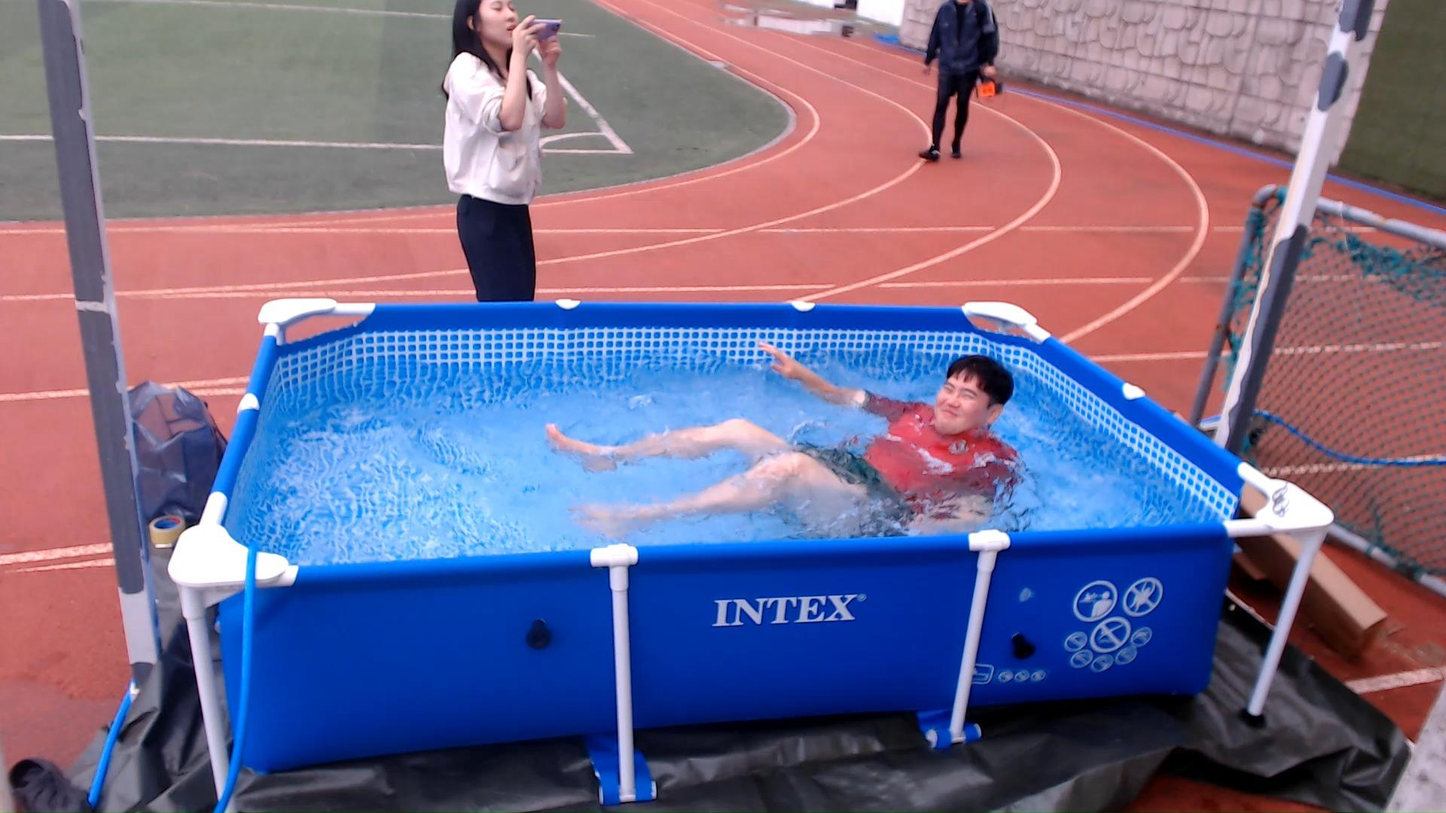Drowning: (525, 333, 1080, 557)
Person-out-of-water: (416, 0, 588, 292), (913, 0, 997, 169)
